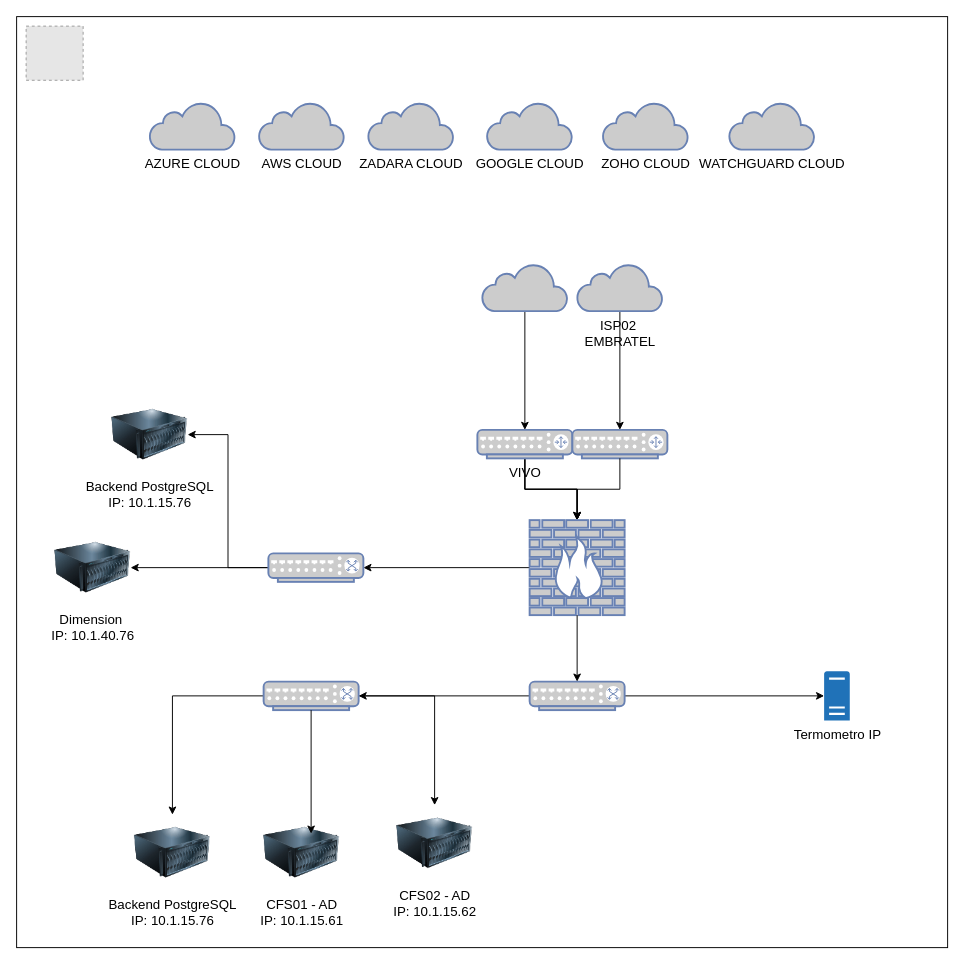
Some shapes in this 964 by 964 pixel diagram are drawn without their labels. Grey dashed boxes stand in for pictures. Here are the shapes that lost their labels. From the top down, the box of each, then its label:
(481, 262, 568, 312): ISP01 VIVO
(571, 428, 668, 459): Embratel
(267, 552, 364, 582): SWITCH DMZ
(528, 519, 625, 616): Firewall Watchguard M290
(262, 680, 359, 711): SW 2960
(528, 680, 625, 711): SWCORE
